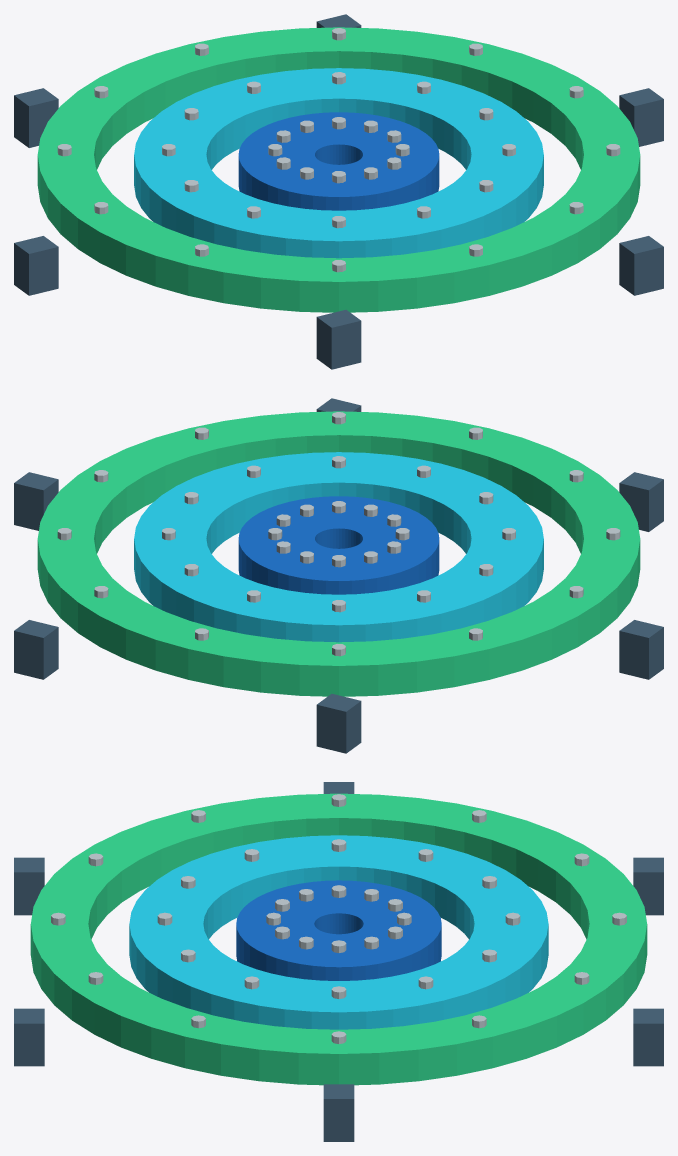
Rendered from 07_L73_MultiZonePressureBladder.fbx.
3 views of the same model, one above another, from view 1: azimuth 30°, elevation 25°; view 2: azimuth 150°, elevation 25°; view 3: azimuth 270°, elevation 25° (orthographic). The views are drawn at different scales.
Parts seen in each view (by area): view 1: MultiZonePressureBladder_Part_0026, MultiZonePressureBladder_Part_0013, MultiZonePressureBladder_Part_0000, MultiZonePressureBladder_Part_0041, MultiZonePressureBladder_Part_0040, MultiZonePressureBladder_Part_0042, MultiZonePressureBladder_Part_0043, MultiZonePressureBladder_Part_0039; view 2: MultiZonePressureBladder_Part_0026, MultiZonePressureBladder_Part_0013, MultiZonePressureBladder_Part_0000, MultiZonePressureBladder_Part_0043, MultiZonePressureBladder_Part_0044, MultiZonePressureBladder_Part_0042, MultiZonePressureBladder_Part_0041, MultiZonePressureBladder_Part_0039; view 3: MultiZonePressureBladder_Part_0026, MultiZonePressureBladder_Part_0013, MultiZonePressureBladder_Part_0000, MultiZonePressureBladder_Part_0039, MultiZonePressureBladder_Part_0040, MultiZonePressureBladder_Part_0044, MultiZonePressureBladder_Part_0041, MultiZonePressureBladder_Part_0043.
Boxes of the visible parts, x1,y1,x2,y2 form: MultiZonePressureBladder_Part_0026: (37,27,640,312); MultiZonePressureBladder_Part_0013: (134,68,543,258); MultiZonePressureBladder_Part_0000: (238,112,439,210); MultiZonePressureBladder_Part_0041: (316,309,361,369); MultiZonePressureBladder_Part_0040: (619,236,663,295); MultiZonePressureBladder_Part_0042: (14,236,58,295); MultiZonePressureBladder_Part_0043: (14,88,58,147); MultiZonePressureBladder_Part_0039: (619,88,663,146); MultiZonePressureBladder_Part_0026: (37,411,640,696); MultiZonePressureBladder_Part_0013: (134,452,543,642); MultiZonePressureBladder_Part_0000: (238,496,439,594); MultiZonePressureBladder_Part_0043: (316,693,361,753); MultiZonePressureBladder_Part_0044: (14,620,58,679); MultiZonePressureBladder_Part_0042: (619,620,663,679); MultiZonePressureBladder_Part_0041: (619,472,663,531); MultiZonePressureBladder_Part_0039: (14,472,58,530); MultiZonePressureBladder_Part_0026: (30,793,647,1085); MultiZonePressureBladder_Part_0013: (129,835,548,1029); MultiZonePressureBladder_Part_0000: (236,880,441,980); MultiZonePressureBladder_Part_0039: (323,1084,354,1141); MultiZonePressureBladder_Part_0040: (14,1008,44,1066); MultiZonePressureBladder_Part_0044: (633,1008,663,1066); MultiZonePressureBladder_Part_0041: (14,857,44,915); MultiZonePressureBladder_Part_0043: (633,857,663,915).
Bounding box in the file's own units: 182 × 18.15 × 158.
